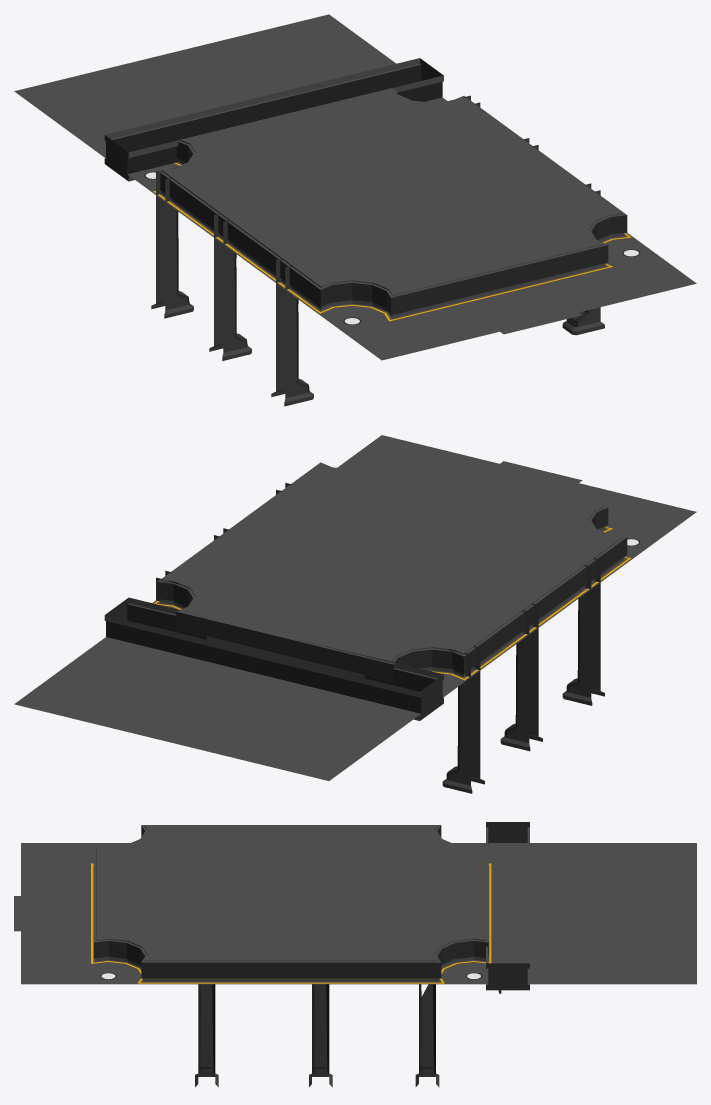
The model's file is SM_Bld_StripClub_Interior_03.fbx.
3 renders of one model, top to bottom at view 1: azimuth 30°, elevation 25°; view 2: azimuth 150°, elevation 25°; view 3: azimuth 270°, elevation 25°, orthographic. The views are drawn at different scales.
Parts seen in each view (by area): view 1: SM_Bld_StripClub_Interior_03; view 2: SM_Bld_StripClub_Interior_03; view 3: SM_Bld_StripClub_Interior_03.
Part boxes in pixels (x1,y1,x2,y2): SM_Bld_StripClub_Interior_03: (14, 14, 696, 406); SM_Bld_StripClub_Interior_03: (14, 435, 696, 793); SM_Bld_StripClub_Interior_03: (14, 822, 696, 1087).
Bounding box in the file's own units: 976 × 400 × 1959.
